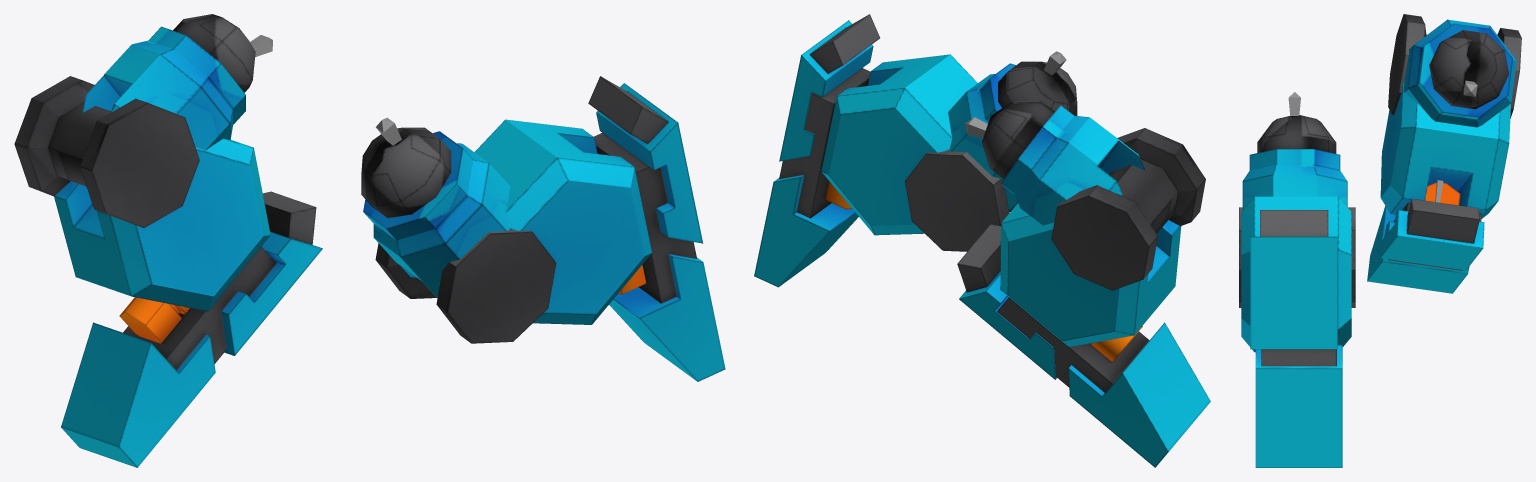
Rendered from Bottom_Running32.obj.
3 renders of one model, left to right at view 1: azimuth 30°, elevation 25°; view 2: azimuth 150°, elevation 25°; view 3: azimuth 270°, elevation 25°, orthographic. The views are drawn at different scales.
Parts seen in each view (by area): view 1: Object010, Object013, Object011, Object014, Object012, Object009; view 2: Object010, Object013, Object011, Object014, Object009, Object012; view 3: Object014, Object010, Object009, Object011, Object012, Object013.
Part boxes in pixels (x1,y1,x2,y2): Object010: (14, 76, 270, 311); Object013: (375, 119, 652, 343); Object011: (61, 191, 322, 467); Object014: (588, 76, 725, 381); Object012: (361, 127, 510, 297); Object009: (82, 14, 255, 150); Object010: (1000, 128, 1205, 347); Object013: (821, 54, 1017, 251); Object011: (957, 224, 1210, 467); Object014: (754, 14, 879, 287); Object009: (982, 100, 1145, 225); Object012: (948, 61, 1077, 210); Object014: (1250, 210, 1342, 467); Object010: (1380, 14, 1521, 218); Object009: (1404, 19, 1516, 127); Object011: (1367, 182, 1484, 293); Object012: (1242, 115, 1347, 209); Object013: (1239, 196, 1355, 352).
Bounding box in the file's own units: 167 × 112 × 91.54.
